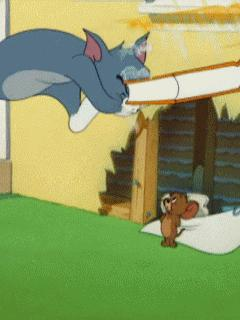jerry: (159, 192, 200, 247)
